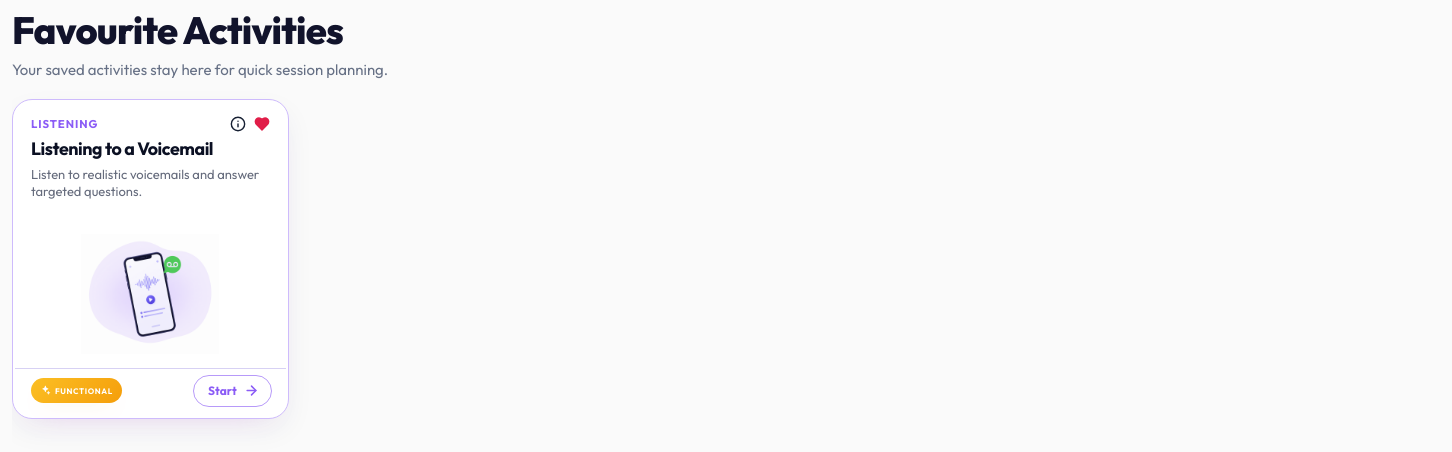
it: Favourite Activities page › removes an unfavourited activity from the page immediately
The image size is (1452, 452).
Click the button named "Remove from favourites: Listening to a Voicemail": (262,124) [248,110,276,138]
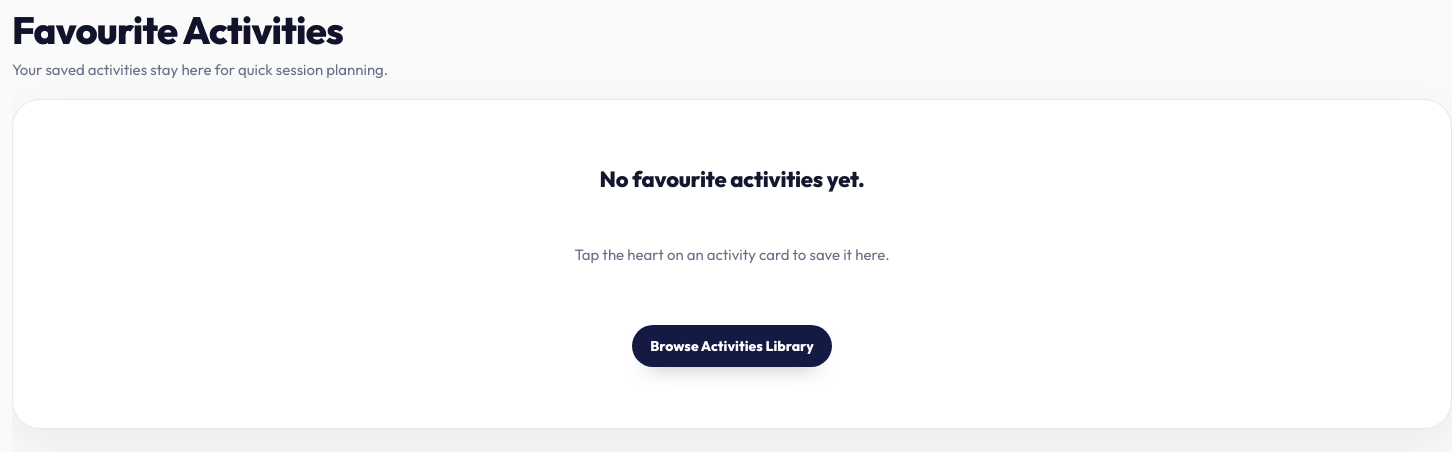
Now the element with test id "activity-card-voicemails" is gone
Now the text "No favourite activities yet." is shown, box [600,162,864,197]
